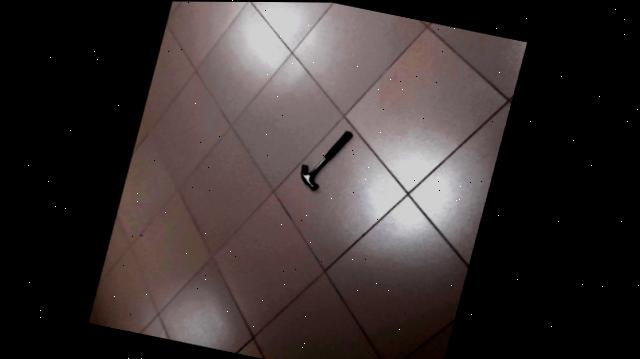hammer: (292, 103, 372, 205)
